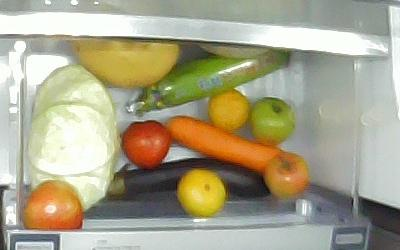cabbage: (32, 63, 116, 209)
carrot: (166, 115, 302, 182)
eggplant: (109, 159, 275, 199)
pear: (70, 37, 178, 89)
prune: (21, 180, 82, 230), (120, 121, 173, 168)
tangerine: (176, 169, 227, 216), (208, 89, 249, 133)
tomato: (250, 96, 296, 145), (265, 150, 308, 196)
zucchini: (127, 51, 290, 117)
